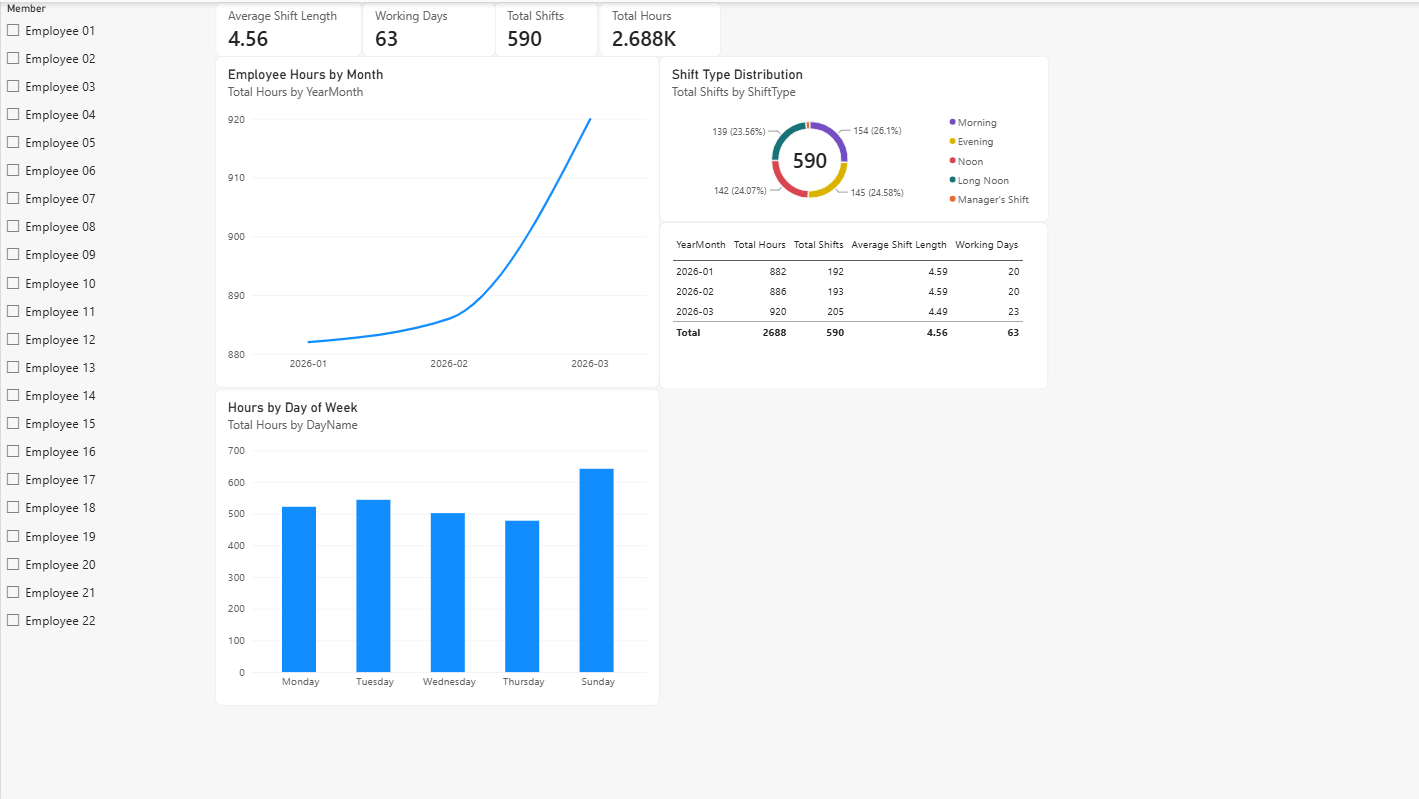

What the dashboard file says about the page in this screenshot:
{"tool":"powerbi","page":{"name":"Employee Analytics","canvas":[1920,1080],"ordinal":2},"visuals":[{"type":"slicer","fields":{"Values":["DimEmployee.Member"]},"box":[0,0,280,868],"z":0},{"type":"cardVisual","fields":{"Data":["DimDate.Total Hours"]},"box":[808,0,164,74],"z":1000},{"type":"cardVisual","fields":{"Data":["DimDate.Average Shift Length"]},"box":[290,0,198,74],"z":2000},{"type":"cardVisual","fields":{"Data":["DimDate.Total Shifts"]},"box":[668,0,140,74],"z":3000},{"type":"cardVisual","fields":{"Data":["DimDate.Working Days"]},"box":[488,0,180,74],"z":4000},{"type":"lineChart","title":"Employee Hours by Month","fields":{"Category":["DimDate.YearMonth"],"Y":["DimDate.Total Hours"]},"box":[290,74,600,448],"z":5000},{"type":"donutChart","title":"Shift Type Distribution","fields":{"Category":["FactShifts.ShiftType"],"Y":["DimDate.Total Shifts"]},"box":[890,74,526,224],"z":6000},{"type":"clusteredColumnChart","title":"Hours by Day of Week","fields":{"Category":["DimDate.DayName"],"Y":["DimDate.Total Hours"]},"box":[290,522.5,600,428],"z":7000},{"type":"tableEx","fields":{"Values":["DimDate.YearMonth","DimDate.Total Hours","DimDate.Total Shifts","DimDate.Average Shift Length","DimDate.Working Days"]},"box":[890,297.5,525,225],"z":8000}]}

Visuals, with their boxes in screenshot pixels (x1, y1, x2, y2), scaled from the page's 1920x1080 canvas onto the 1419x799 screenshot:
slicer - DimEmployee.Member: (0, 0, 207, 642)
cardVisual - DimDate.Total Hours: (597, 0, 718, 55)
cardVisual - DimDate.Average Shift Length: (214, 0, 361, 55)
cardVisual - DimDate.Total Shifts: (494, 0, 597, 55)
cardVisual - DimDate.Working Days: (361, 0, 494, 55)
"Employee Hours by Month" lineChart: (214, 55, 658, 386)
"Shift Type Distribution" donutChart: (658, 55, 1047, 220)
"Hours by Day of Week" clusteredColumnChart: (214, 387, 658, 703)
tableEx - DimDate.YearMonth x DimDate.Total Hours: (658, 220, 1046, 387)
